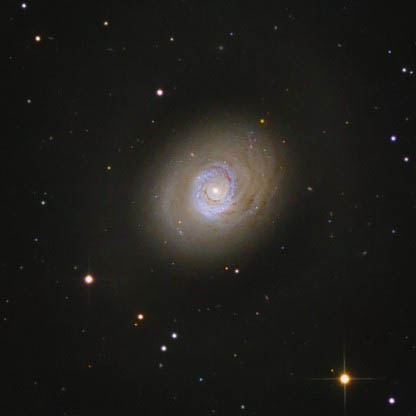Messier 94: (109, 96, 323, 304)
